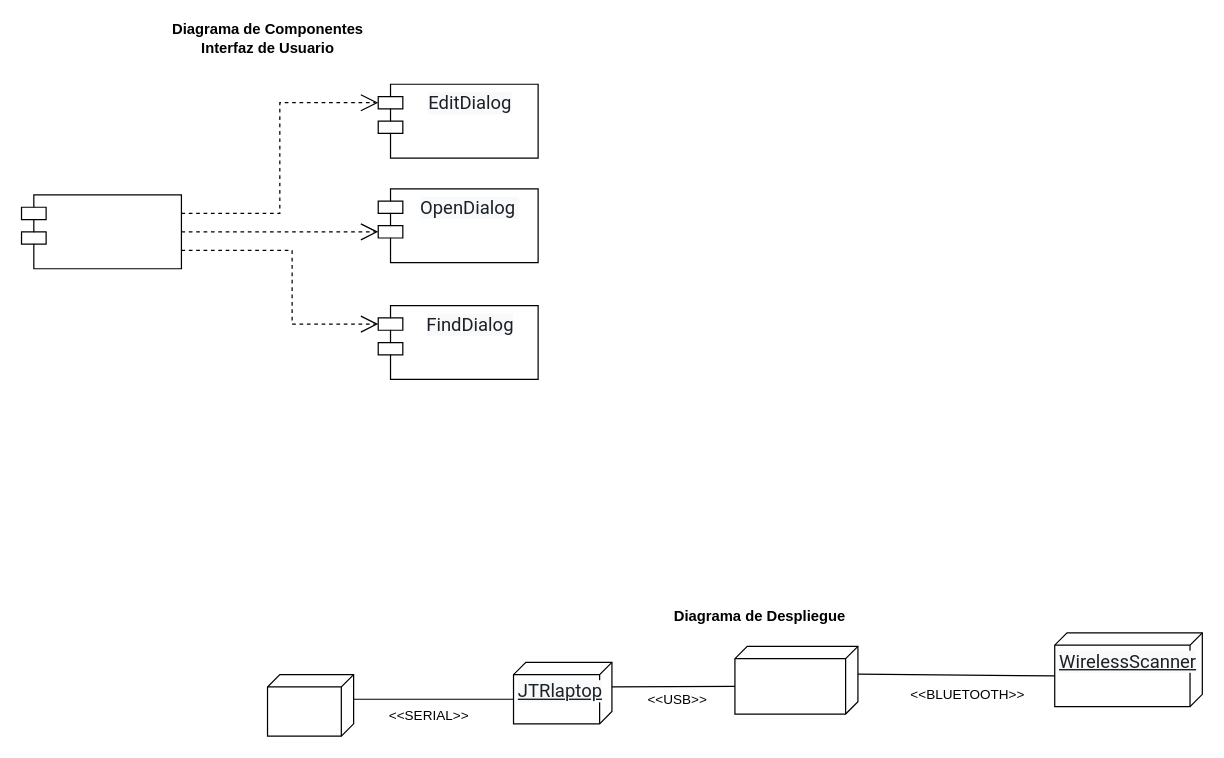
This 1224x758 diagram has some shape labels left out. Here are the shapes that lost their labels. From the top down, the box of each, then its label:
(20, 194, 181, 269): InterfazUsuario
(734, 645, 858, 714): WirelessBase
(266, 673, 354, 736): Scanner
